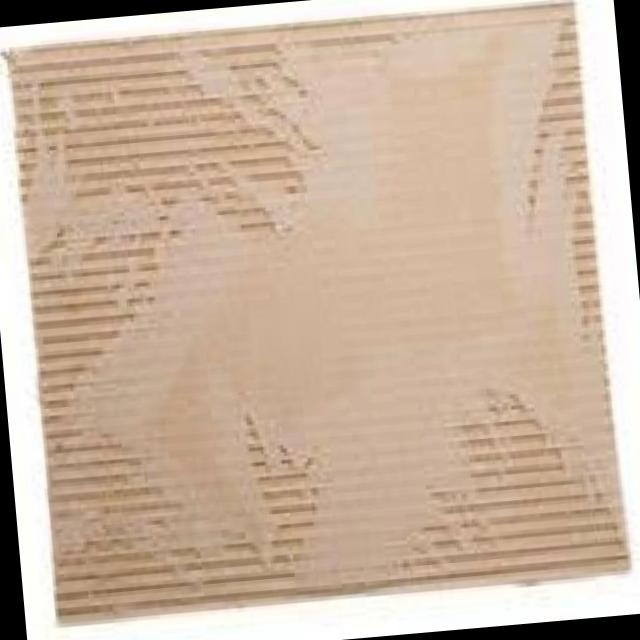cardboard paper: (7, 2, 625, 619)
